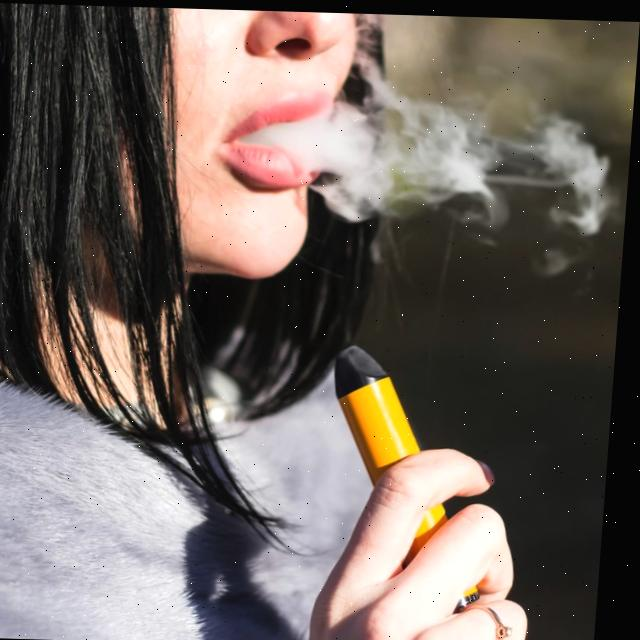vape: (333, 343, 434, 486)
